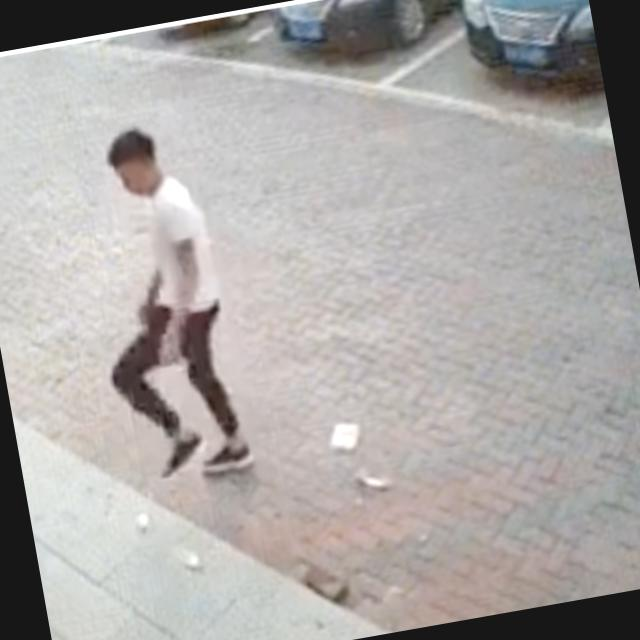person: (68, 118, 255, 488)
